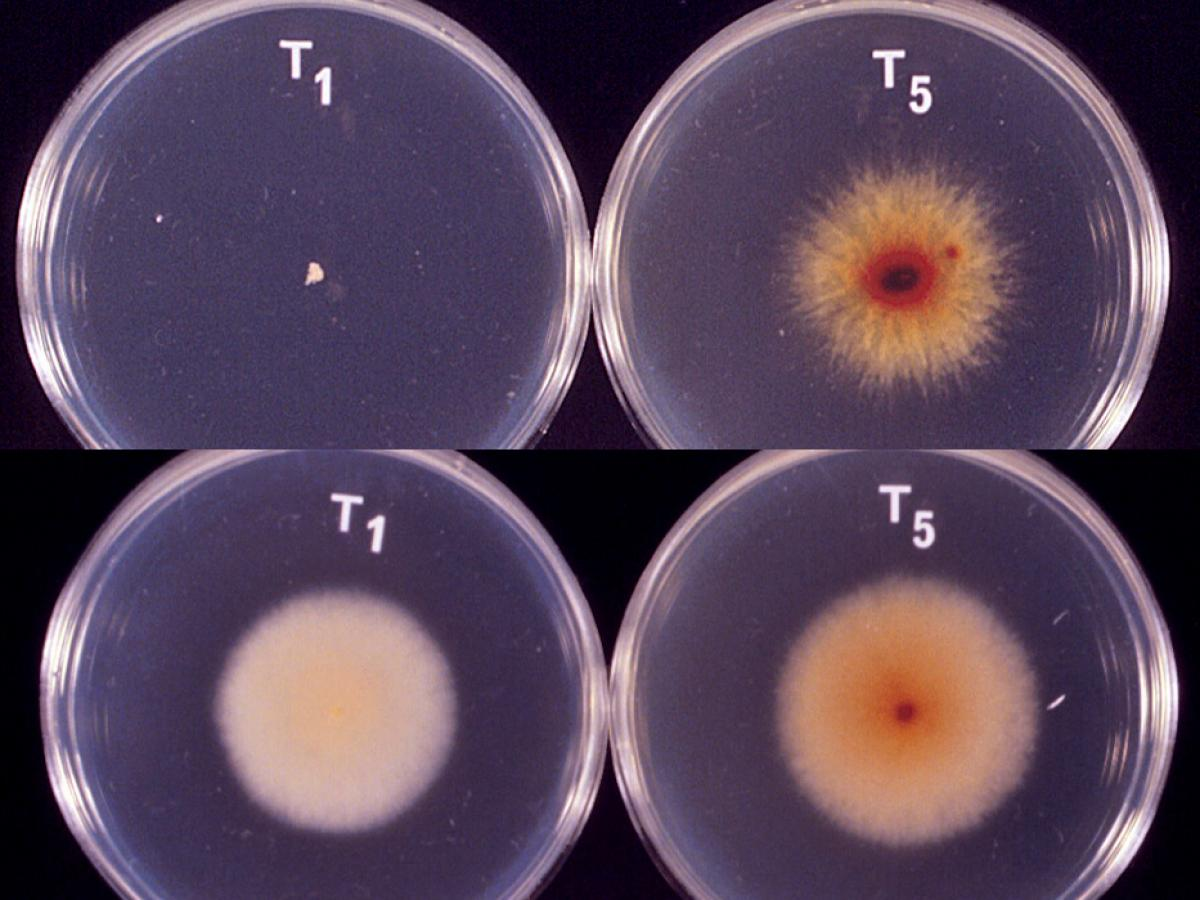Trichophyton: (781, 567, 1041, 826), (198, 595, 448, 824), (795, 156, 1003, 376), (296, 258, 323, 290)
